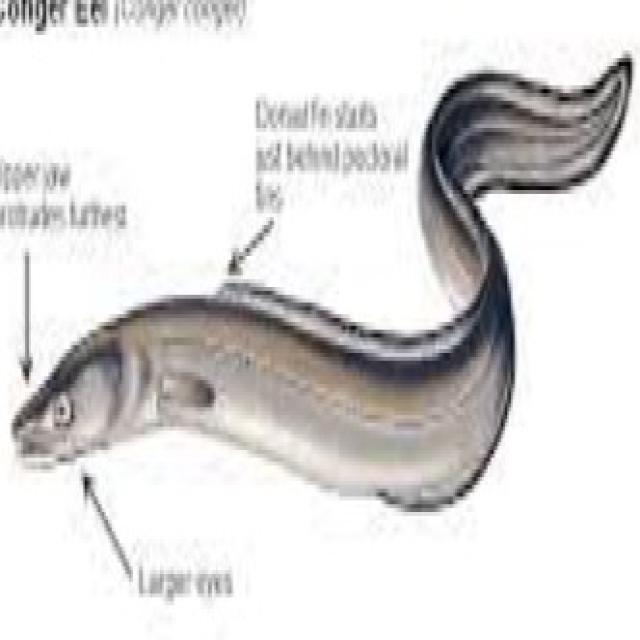Freshwater-Eel: (6, 56, 639, 575)
